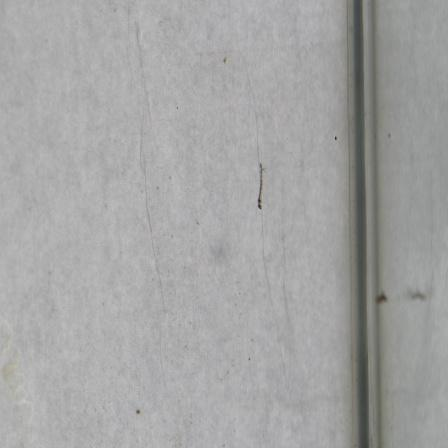Jentik-Nyamuk: (249, 159, 272, 215)
